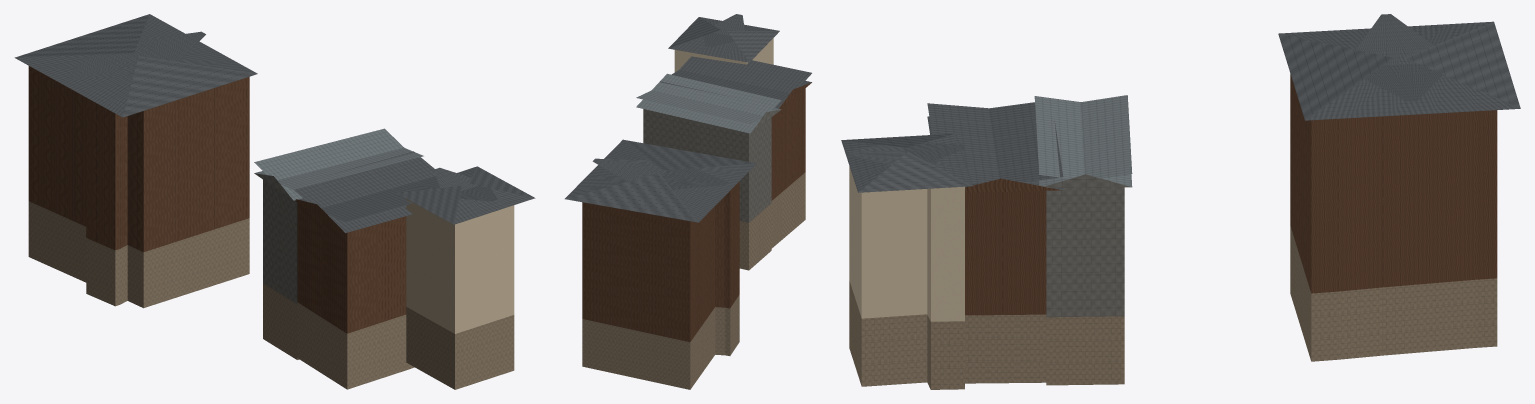
File: bld_c4_5_502.gltf
The picture shows the model from 3 angles, left to right: view 1: azimuth 30°, elevation 25°; view 2: azimuth 150°, elevation 25°; view 3: azimuth 270°, elevation 25°; orthographic projection. The views are drawn at different scales.
Visible parts, largest first — view 1: bld_c4_5_502; view 2: bld_c4_5_502; view 3: bld_c4_5_502.
Part boxes in pixels (box(x1,y1,x2,y2)): bld_c4_5_502: box(14, 14, 535, 389); bld_c4_5_502: box(565, 14, 811, 389); bld_c4_5_502: box(841, 14, 1520, 389).
Bounding box in the file's own units: 24.89 × 19.3 × 46.09.
8 materials, 8 textured.
